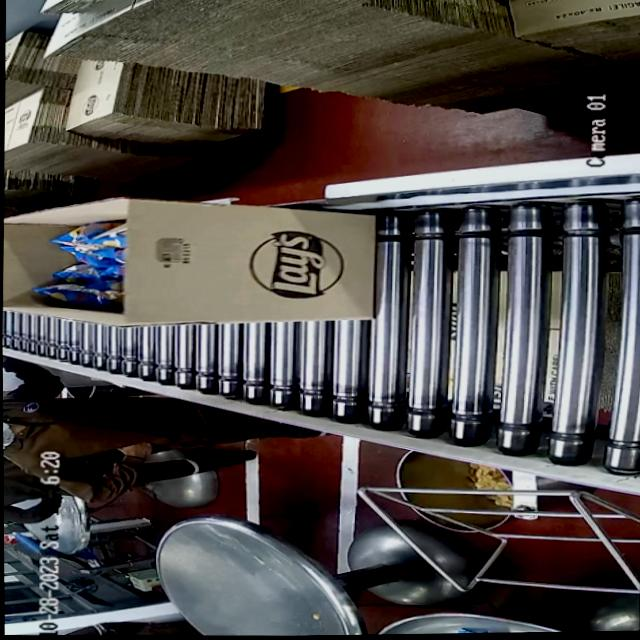PAPRIKA: (35, 216, 128, 310)
